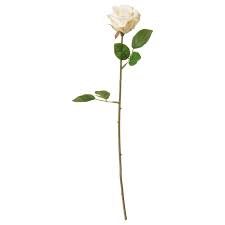lale: (92, 0, 156, 154)
